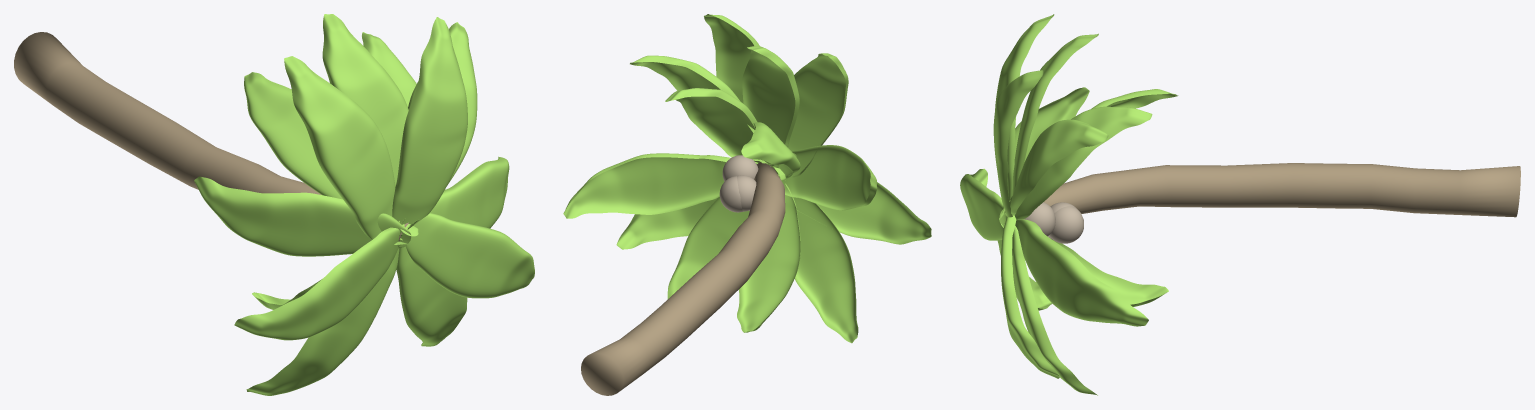
The model's file is palmTree.fbx.
3 views of the same model, side by side, from view 1: azimuth 30°, elevation 25°; view 2: azimuth 150°, elevation 25°; view 3: azimuth 270°, elevation 25° (orthographic). The views are drawn at different scales.
Visible parts, largest first — view 1: palm; view 2: palm; view 3: palm.
Part boxes in pixels (bbox=[...]): palm: bbox=[14, 14, 534, 395]; palm: bbox=[563, 14, 931, 395]; palm: bbox=[960, 14, 1520, 395].
Bounding box in the file's own units: 23685 × 22872 × 36454.
